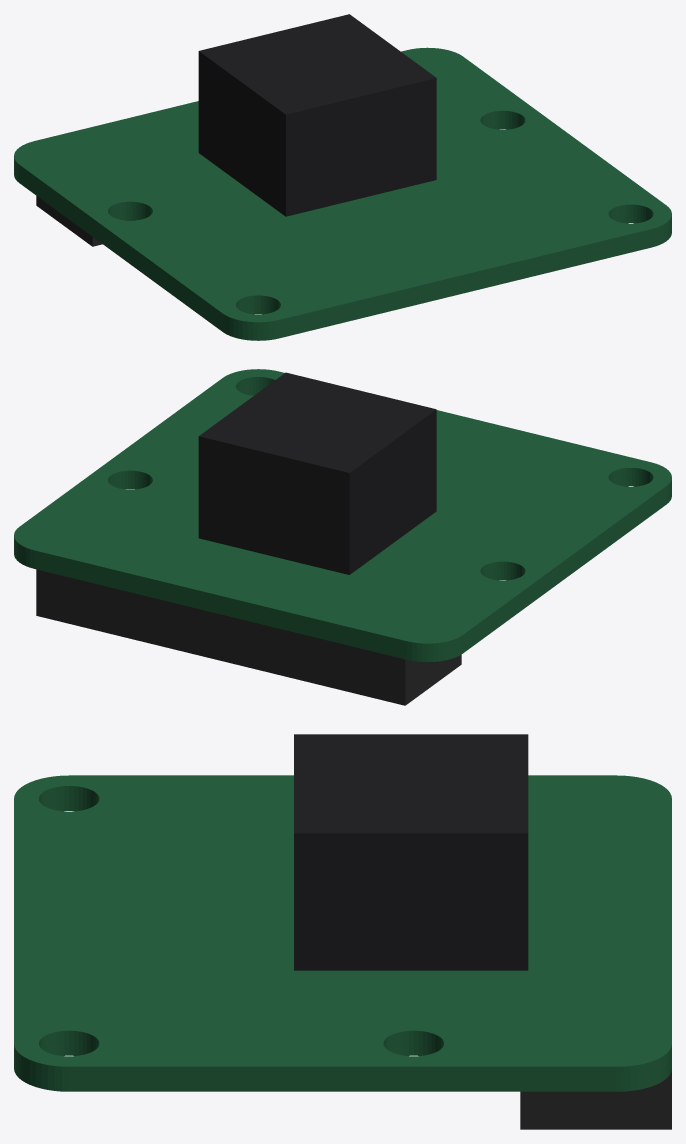
Rendered from raspberry-pi-camera-2.glb.
3 views of the same model, one above another, from view 1: azimuth 30°, elevation 25°; view 2: azimuth 150°, elevation 25°; view 3: azimuth 270°, elevation 25° (orthographic). The views are drawn at different scales.
Parts seen in each view (by area): view 1: raspberry-pi-camera-2; view 2: raspberry-pi-camera-2; view 3: raspberry-pi-camera-2.
Part boxes in pixels (box(x1,y1,x2,y2)): raspberry-pi-camera-2: box(14, 14, 671, 340); raspberry-pi-camera-2: box(14, 369, 671, 705); raspberry-pi-camera-2: box(14, 734, 671, 1129).
Bounding box in the file's own units: 25 × 9 × 23.86.
